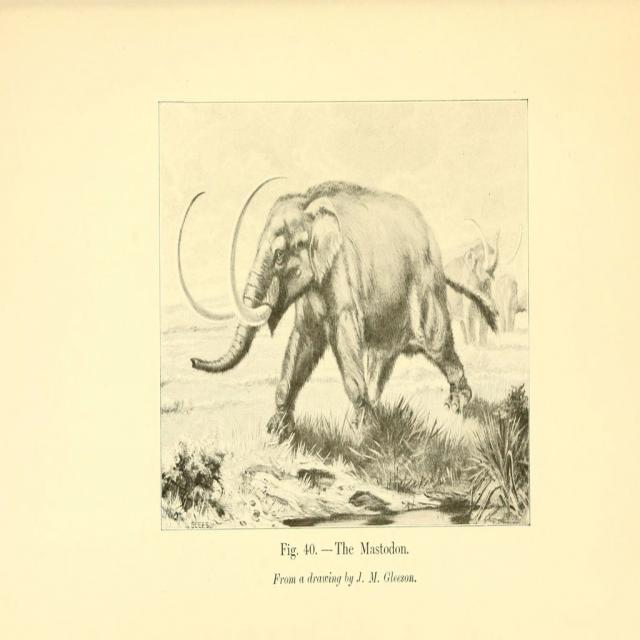elephant: (182, 186, 486, 444)
